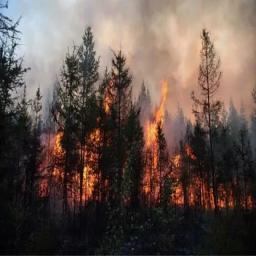Low smoke: (0, 0, 255, 188)
Small fire: (34, 47, 255, 219)
